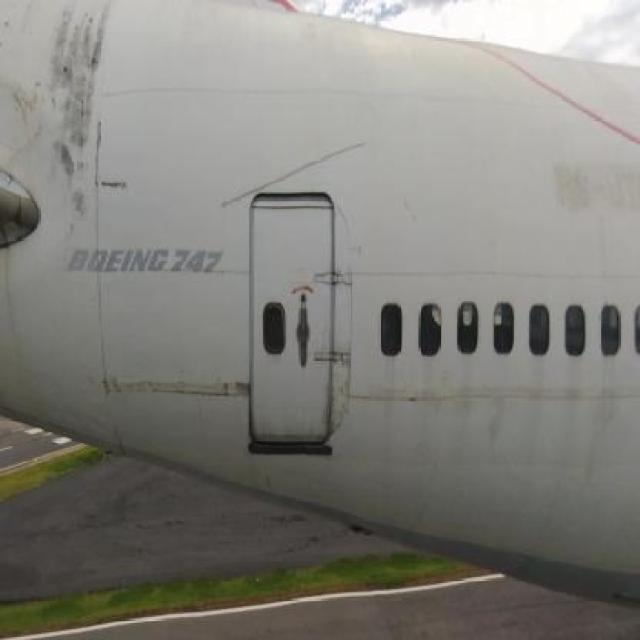Rust: (53, 0, 115, 240), (108, 364, 232, 407), (16, 64, 44, 164)
Scartch: (567, 379, 621, 486), (460, 379, 508, 453), (326, 369, 357, 433), (99, 168, 132, 201), (396, 187, 424, 224), (237, 373, 252, 407)
